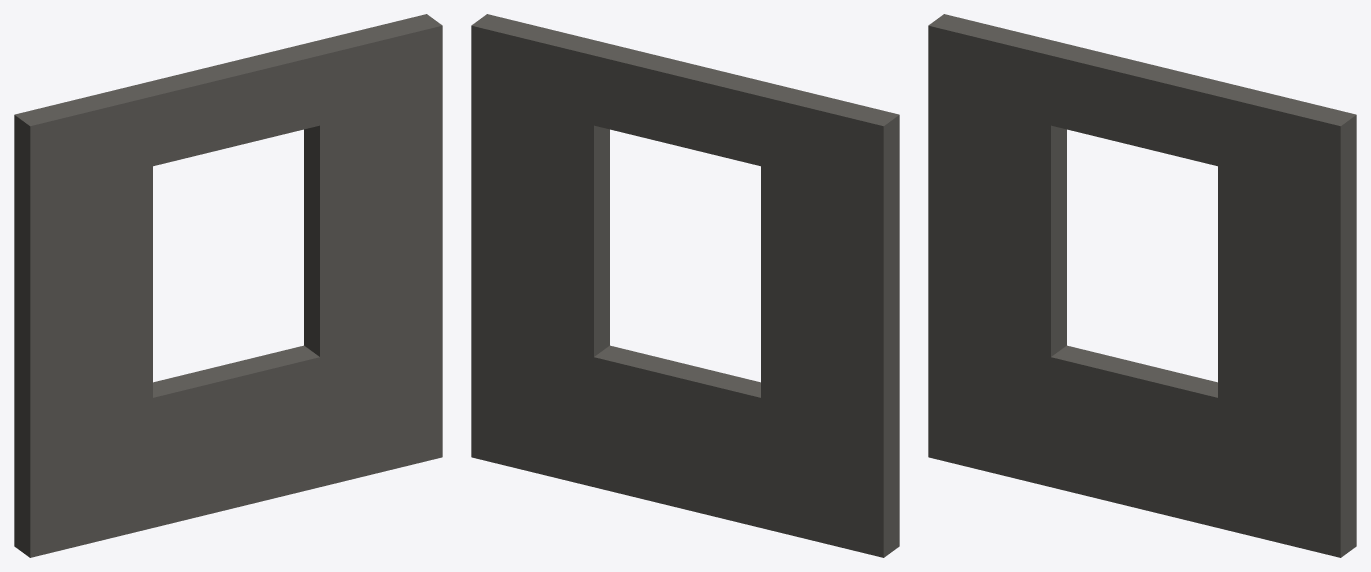
The model's file is SM_Window.gltf.
The picture shows the model from 3 angles, left to right: view 1: azimuth 30°, elevation 25°; view 2: azimuth 150°, elevation 25°; view 3: azimuth 330°, elevation 25°; orthographic projection.
Visible parts, largest first — view 1: SM_Window; view 2: SM_Window; view 3: SM_Window.
Boxes of the visible parts, box(x1,y1,x2,y2) form: SM_Window: box(14, 14, 442, 557); SM_Window: box(471, 14, 899, 557); SM_Window: box(928, 14, 1356, 557).
Size of the model in its own units: 3 by 3 by 0.2.
1 material, 1 textured.
